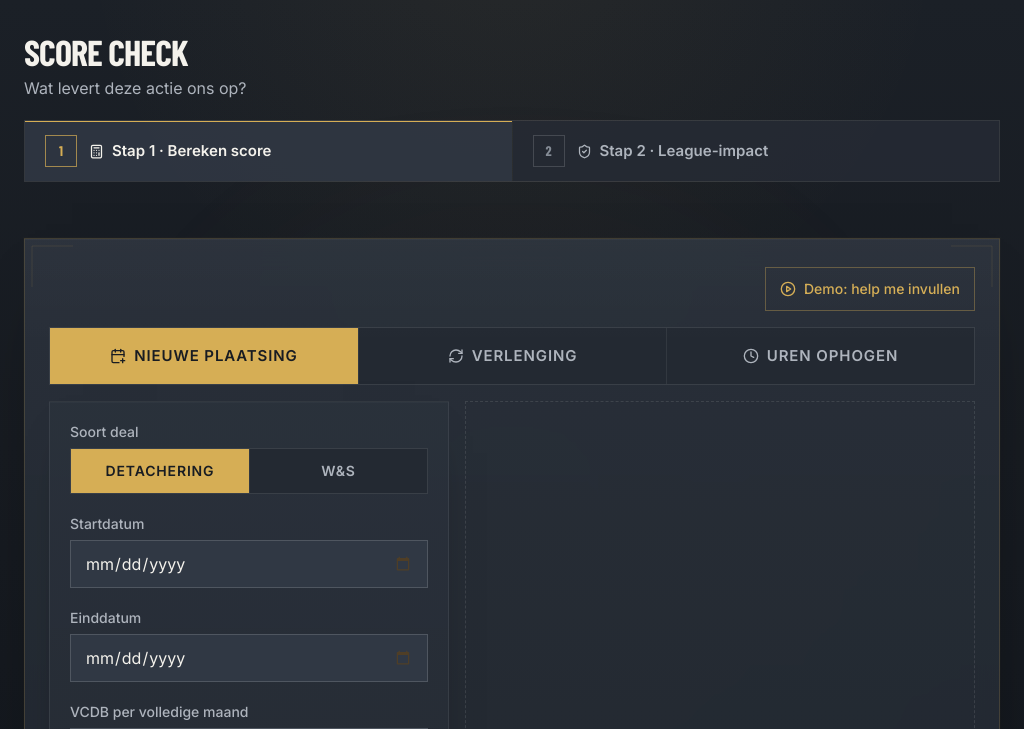
Scenario: ScoreCheckPage — Calculator and League Check as one flow › League Check still works on its own via step 2
Click the button "2 Stap 2 · League-impact" at (756, 151), box [512,121,999,181]
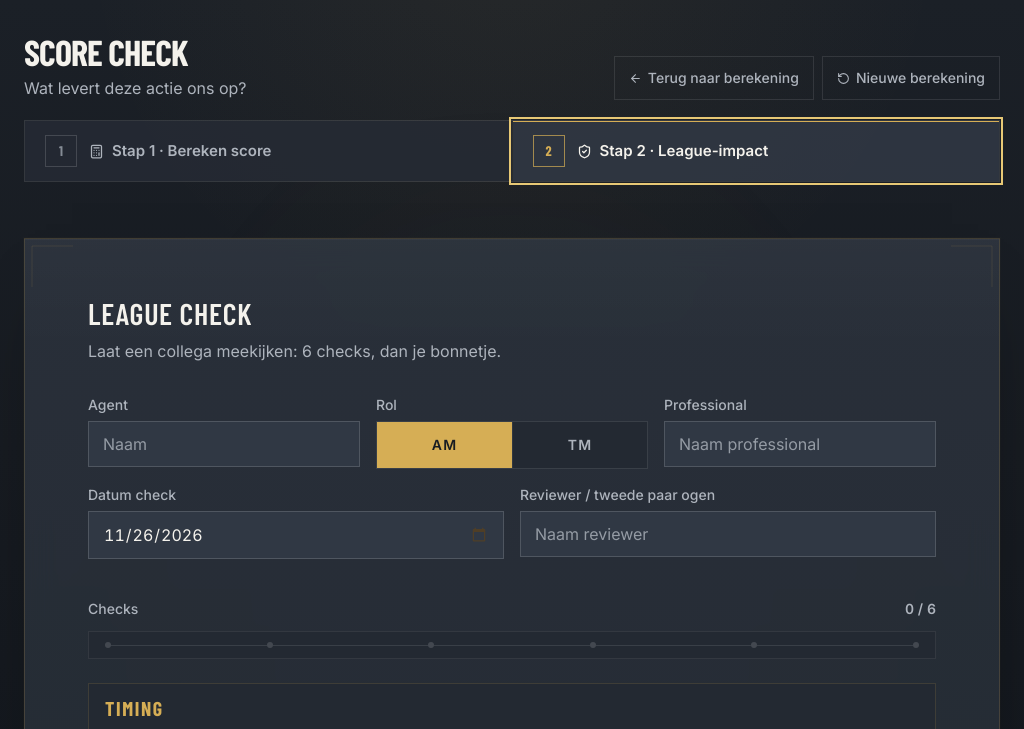
Now the heading "League Check" is shown, box [88,295,252,331]
